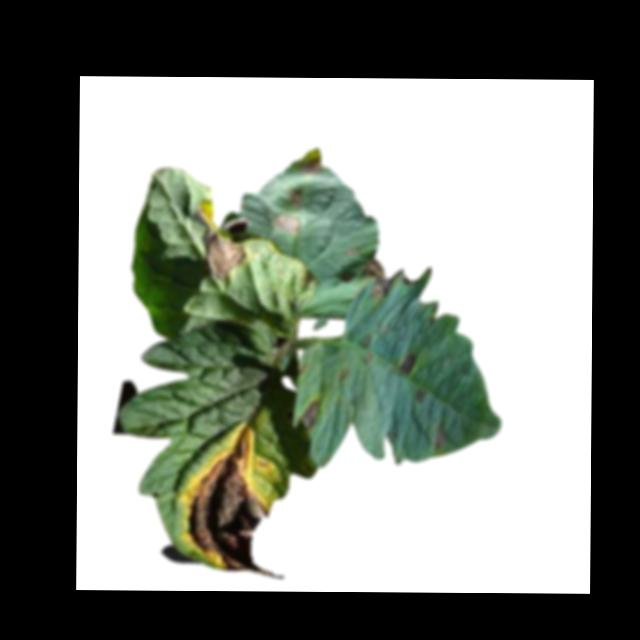Early_blight: (187, 427, 285, 582), (192, 196, 257, 282), (362, 259, 394, 298), (300, 394, 321, 430), (428, 422, 447, 454), (273, 214, 301, 233), (397, 350, 416, 377), (303, 154, 322, 176), (289, 186, 305, 208), (414, 386, 429, 403), (364, 352, 375, 367), (340, 371, 351, 380)
